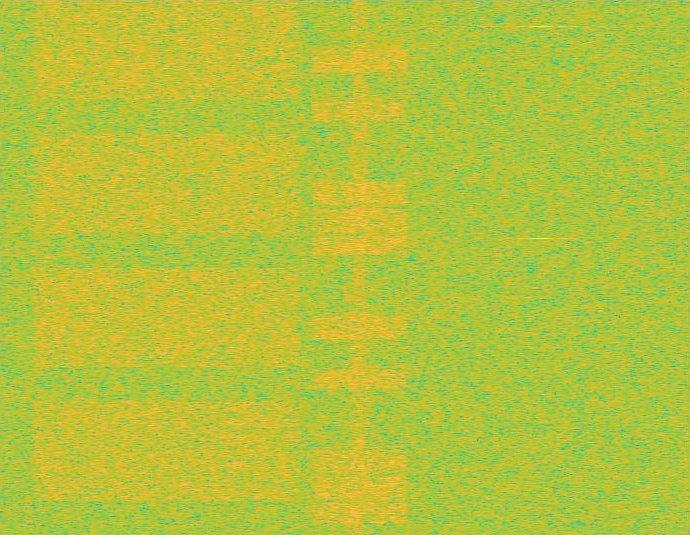5G: (28, 0, 304, 534)
DSSS: (348, 0, 371, 534)
LTE: (308, 0, 411, 534)
Radar: (534, 0, 548, 534)
